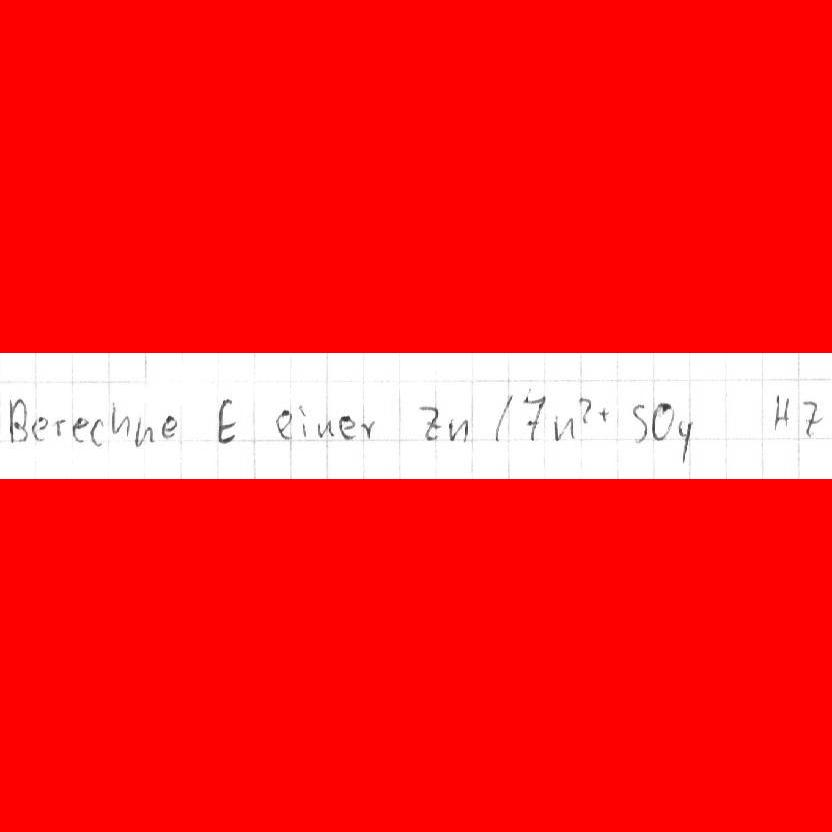Char: (522, 389, 546, 444), (215, 394, 237, 445), (493, 392, 512, 445), (651, 400, 673, 441), (8, 395, 26, 443), (770, 392, 791, 432), (676, 416, 693, 465), (109, 401, 129, 442), (419, 402, 439, 442), (801, 399, 821, 439), (630, 401, 647, 443), (133, 417, 156, 448), (446, 414, 470, 443), (552, 414, 576, 443), (275, 407, 293, 441), (88, 416, 105, 449), (160, 411, 178, 441), (29, 414, 48, 442), (296, 399, 308, 440), (315, 418, 337, 440), (578, 395, 594, 425), (339, 414, 357, 440), (71, 413, 86, 444), (357, 416, 374, 441), (596, 403, 613, 425), (52, 416, 67, 439)
